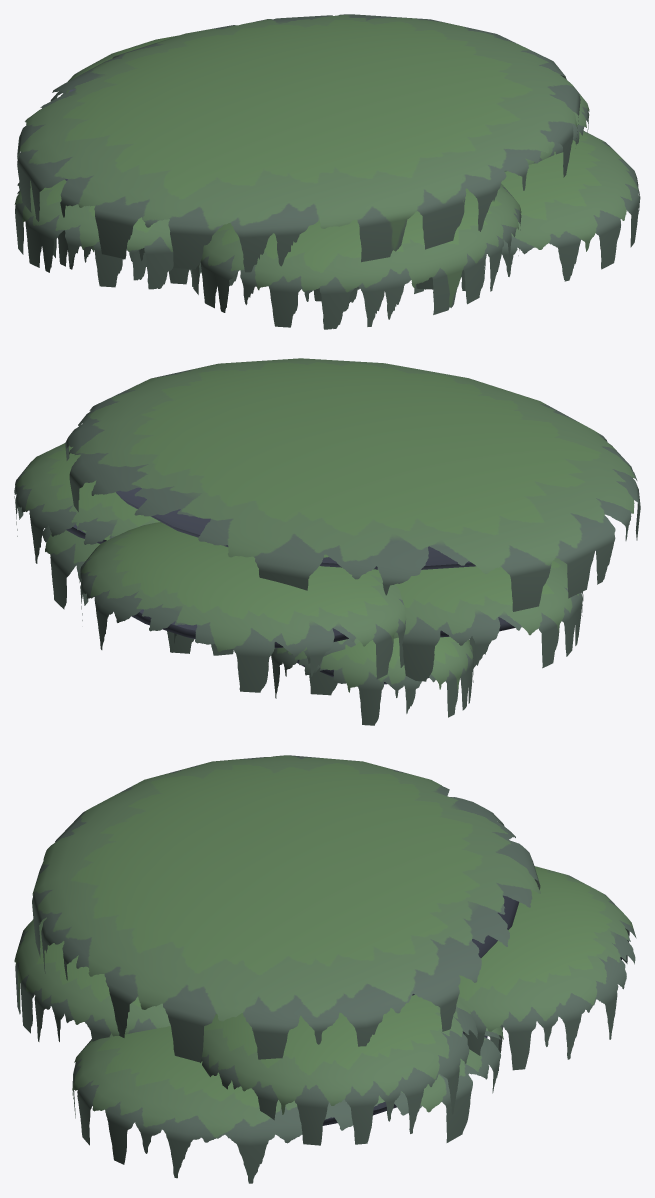
Rendered from TreeTop.obj.
The picture shows the model from 3 angles, top to bottom: view 1: azimuth 30°, elevation 25°; view 2: azimuth 150°, elevation 25°; view 3: azimuth 270°, elevation 25°; orthographic projection. The views are drawn at different scales.
Visible parts, largest first — view 1: TreeTop; view 2: TreeTop; view 3: TreeTop.
Boxes of the visible parts, x1=… form: TreeTop: x1=14, y1=14, x2=640, y2=329; TreeTop: x1=14, y1=358, x2=640, y2=725; TreeTop: x1=14, y1=755, x2=636, y2=1183.
Bounding box in the file's own units: 43.85 × 13.82 × 39.77.
